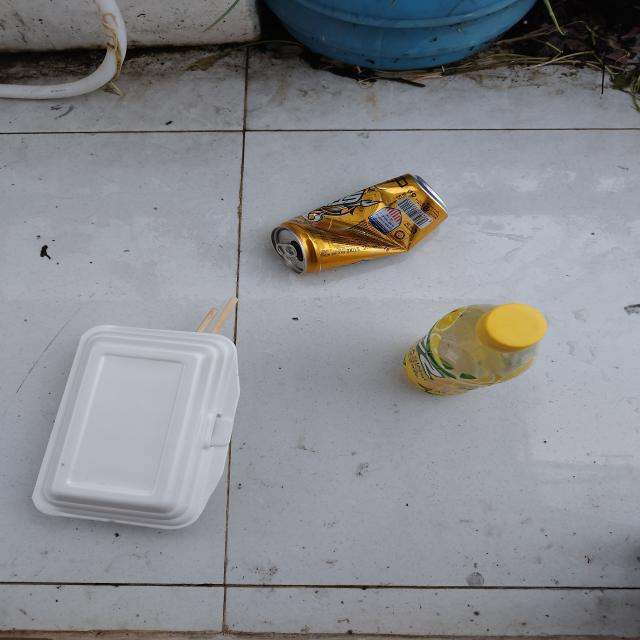bottle: (403, 302, 548, 396)
can: (270, 171, 455, 278)
foam box: (26, 322, 242, 530)
